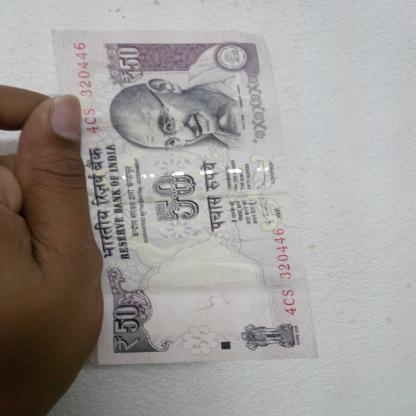Old50Front: (52, 29, 320, 367)
